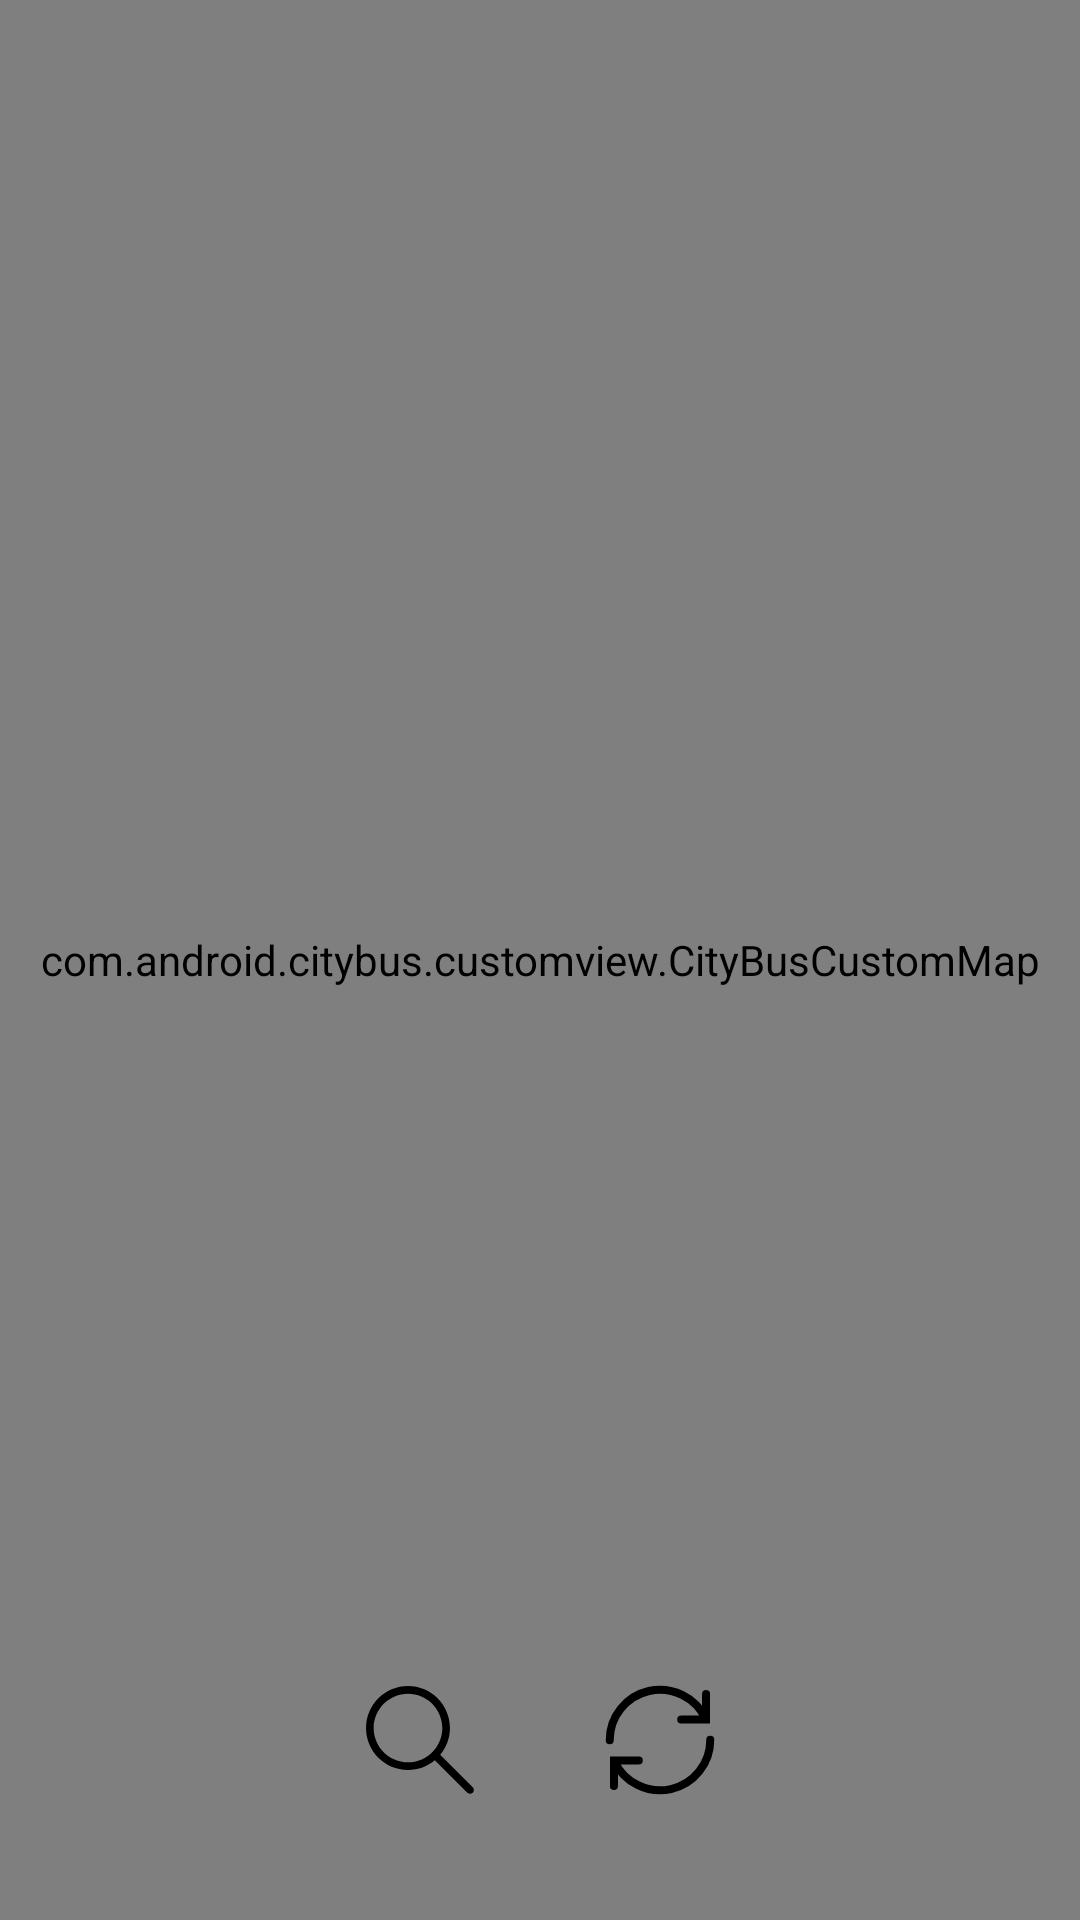

Where icons sit on this 1080 x 1920 app screen, as {"left": x1, "top": y1, "right": x2, "bottom": y2}:
search: {"left": 366, "top": 1686, "right": 474, "bottom": 1794}
update: {"left": 605, "top": 1685, "right": 715, "bottom": 1795}
